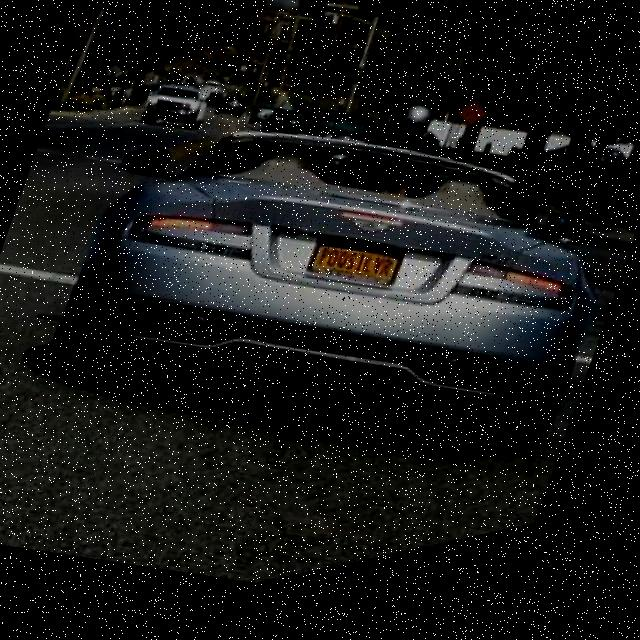license_plate: (306, 228, 412, 320)
